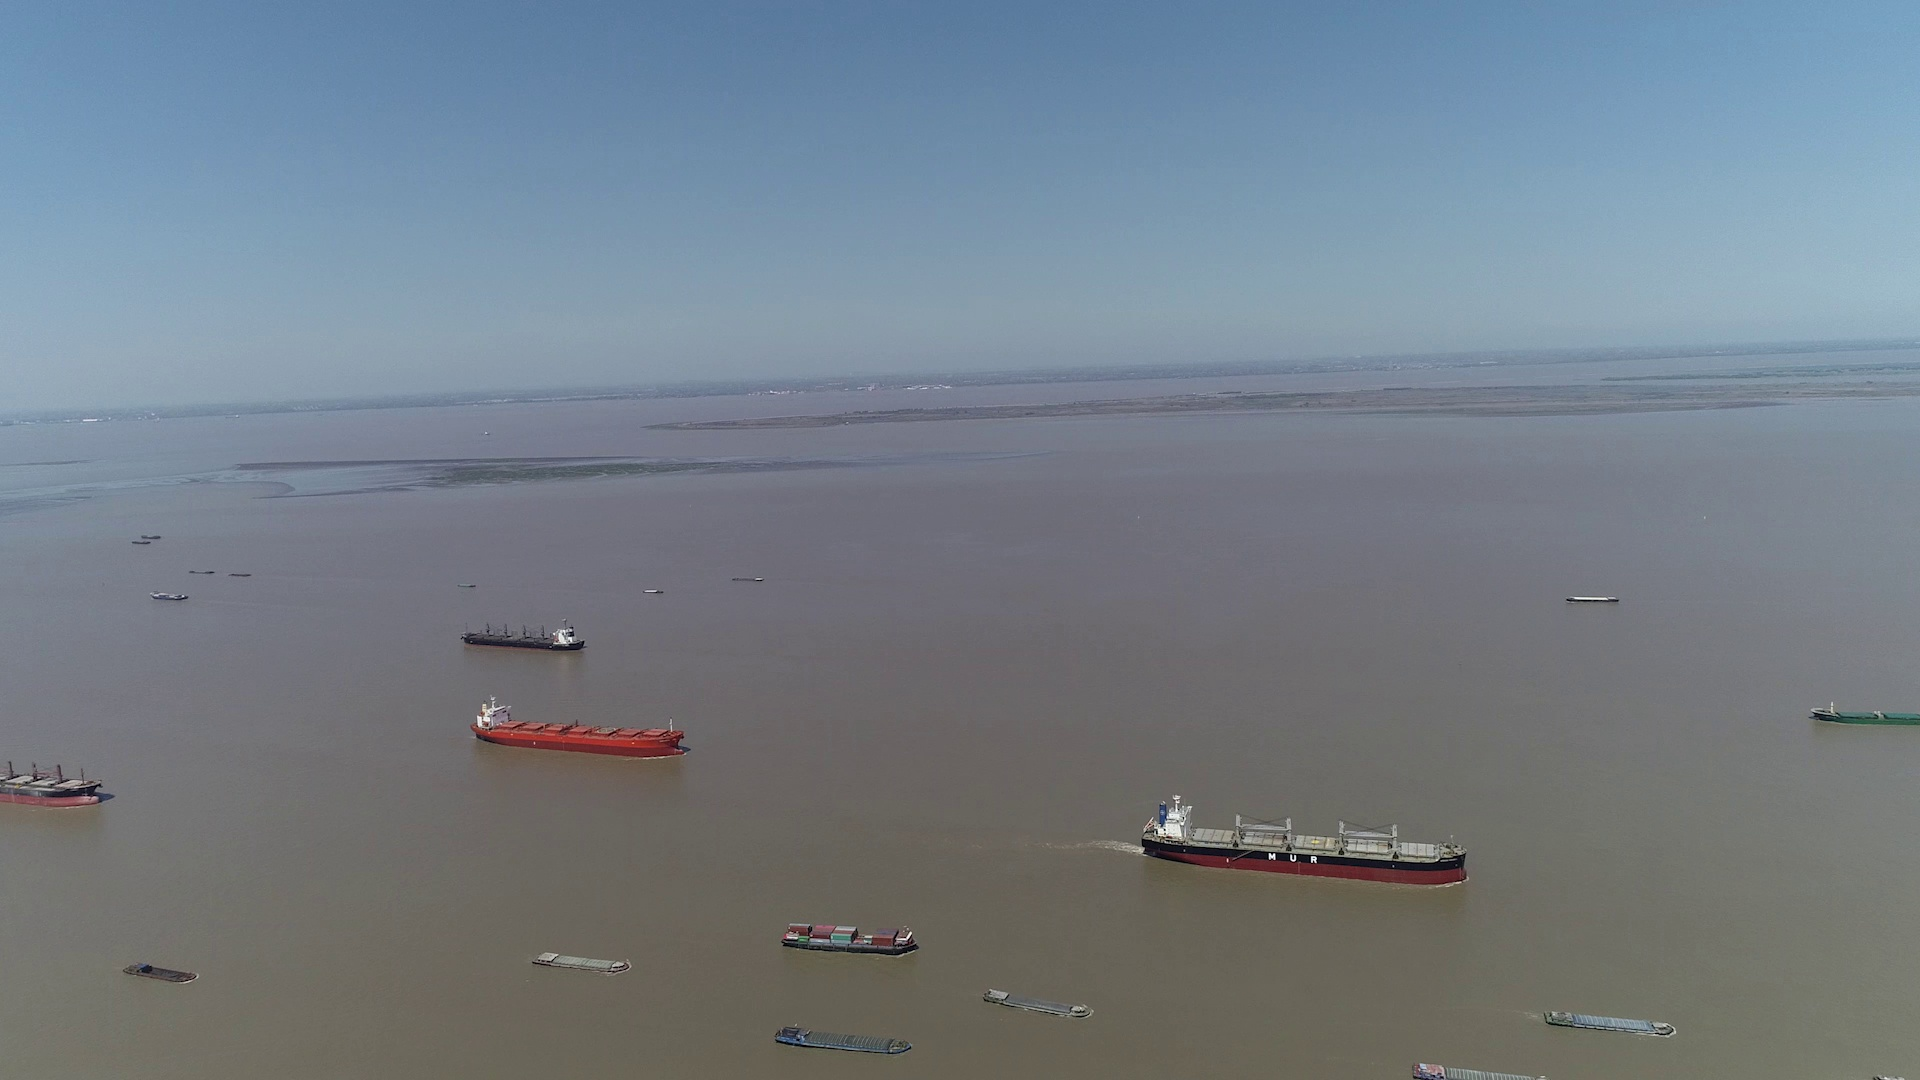ship: (1139, 795, 1470, 886), (472, 696, 684, 758), (3, 746, 105, 808), (781, 920, 920, 955), (769, 1025, 914, 1058), (462, 618, 584, 651), (1545, 1007, 1677, 1036), (982, 988, 1093, 1021), (1408, 1060, 1545, 1080), (1812, 703, 1920, 727), (531, 952, 632, 975), (124, 963, 194, 984), (152, 589, 190, 603), (1568, 595, 1619, 604)
